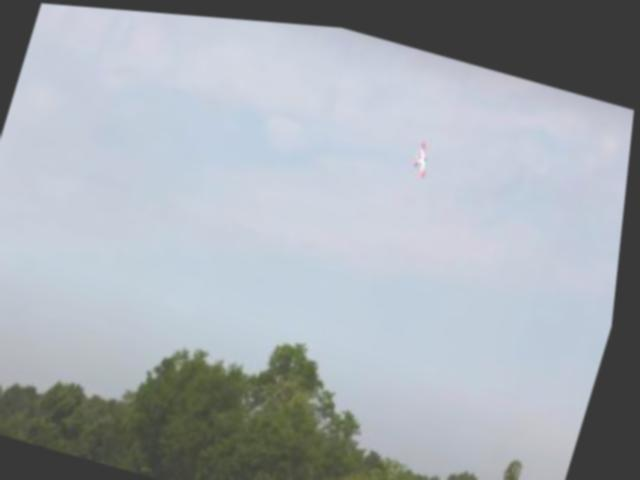uav: (408, 125, 440, 174)
